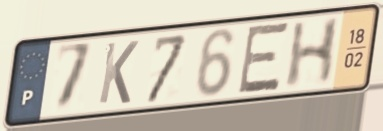6: (191, 25, 239, 103)
7: (145, 31, 190, 105), (54, 42, 93, 116)
E: (234, 19, 293, 97)
H: (282, 14, 344, 92)
K: (96, 38, 142, 107)
